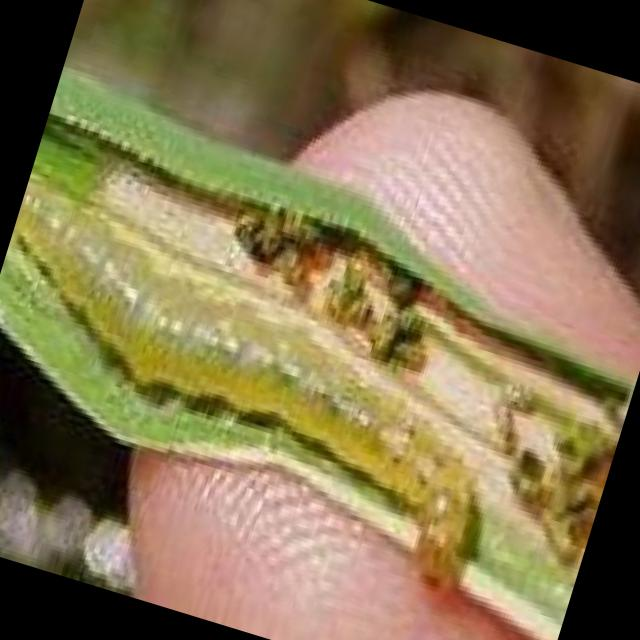leaf-folder: (0, 181, 544, 602)
